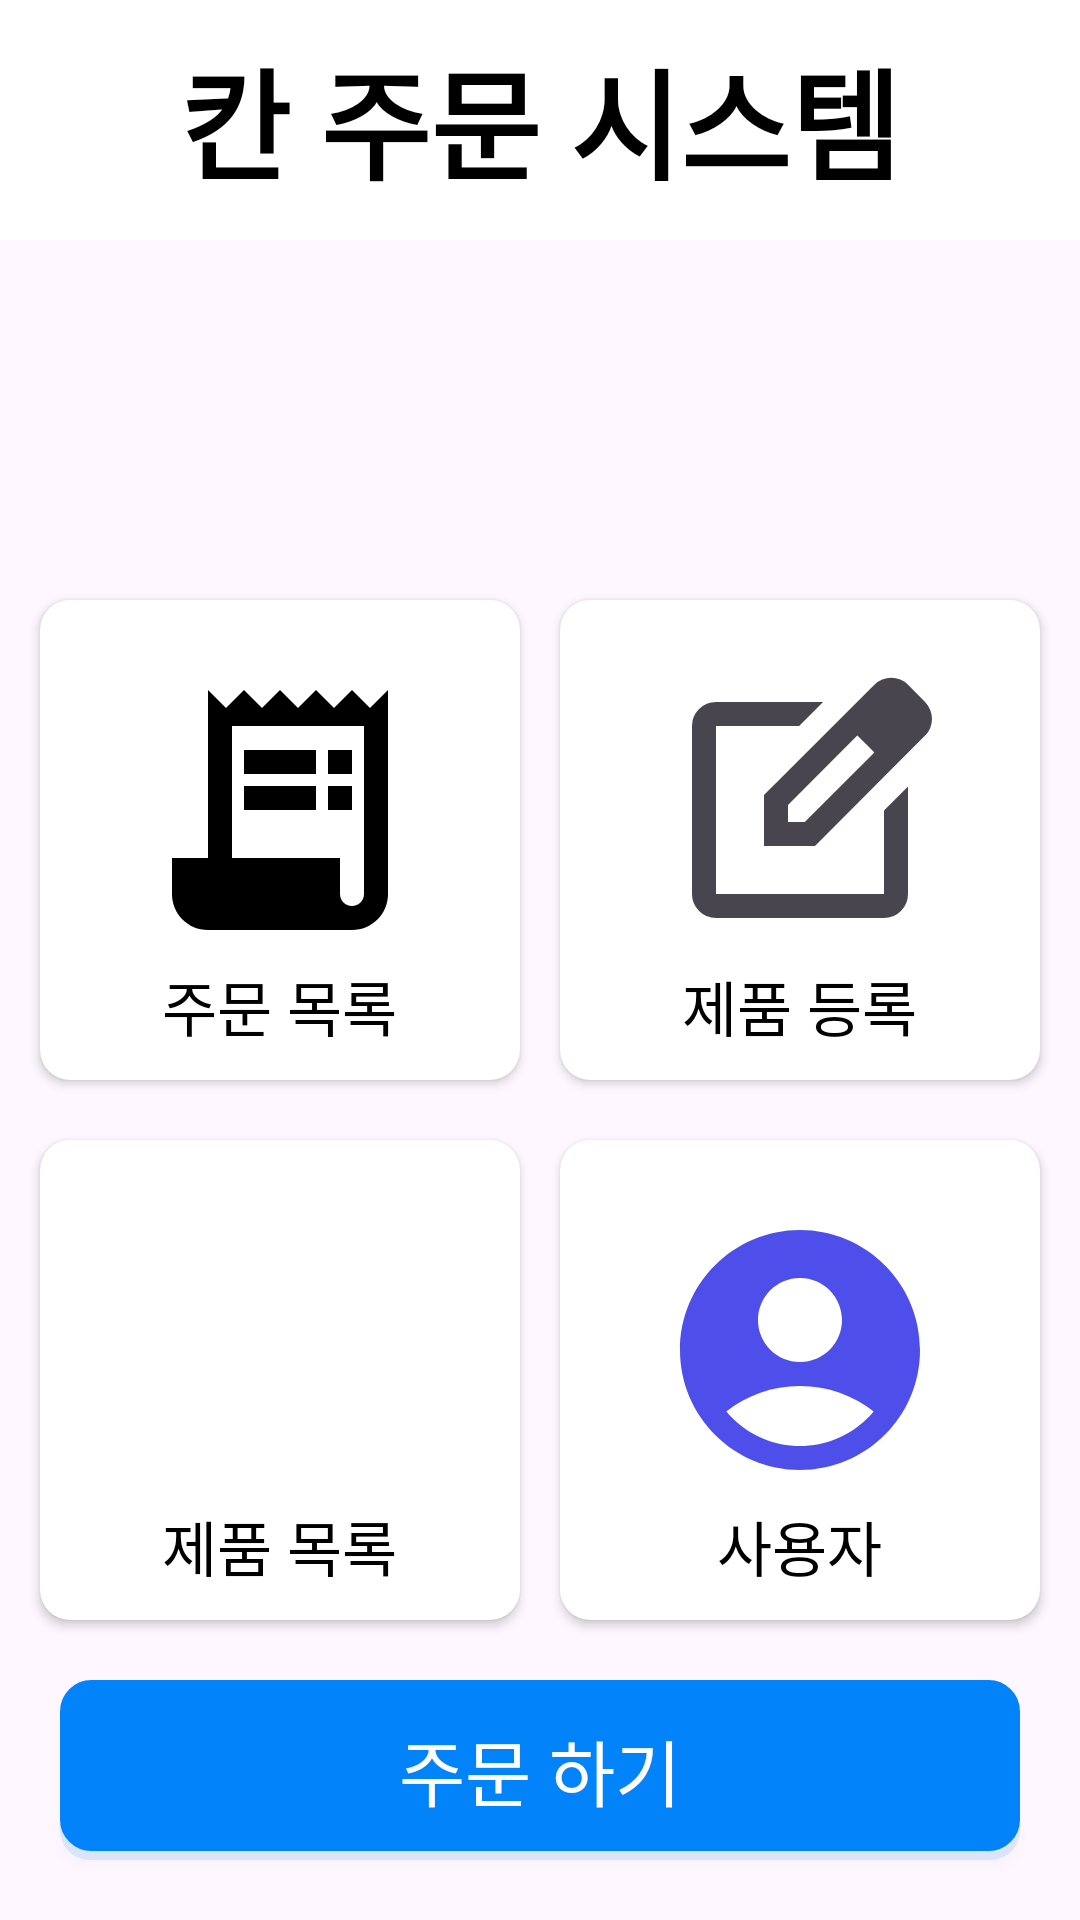

Named icons in this screenshot (1080px x 1920px) and their bounding boxes, (x1, y1, x2, y2):
edit square: (692, 677, 932, 918)
receipt long: (172, 690, 388, 930)
